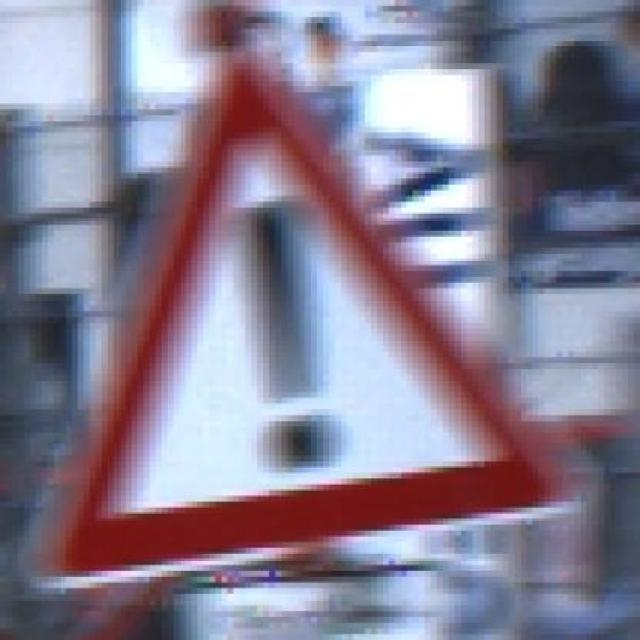Attention Please-: (41, 51, 574, 582)
